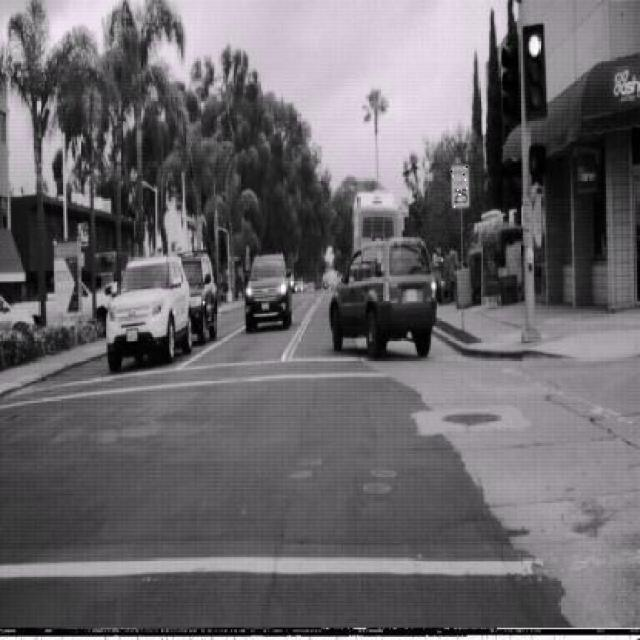speedLimit25: (449, 161, 470, 209)
